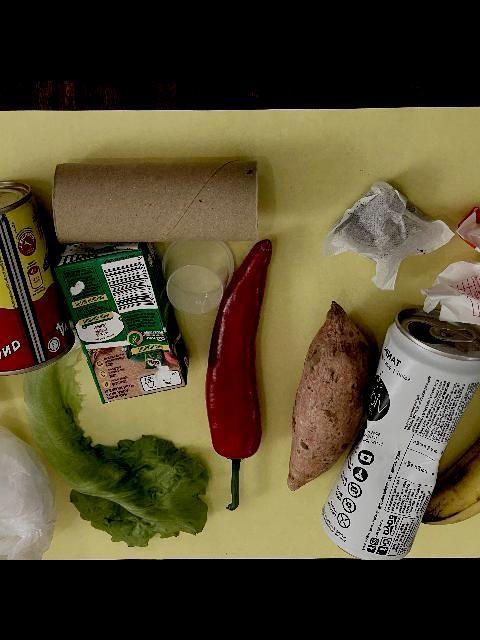banana: (418, 331, 480, 524)
chilli: (204, 238, 272, 510), (286, 298, 376, 492)
drinkcan: (320, 304, 480, 559)
drinkpack: (53, 238, 191, 404)
foodcan: (0, 178, 76, 375)
lettuce: (23, 326, 211, 548)
paperbag: (420, 205, 480, 332)
plasticbottle: (0, 283, 41, 442)
plasticcontainer: (161, 234, 237, 316)
teabag: (322, 178, 454, 292)
tissueroll: (52, 158, 260, 244)
